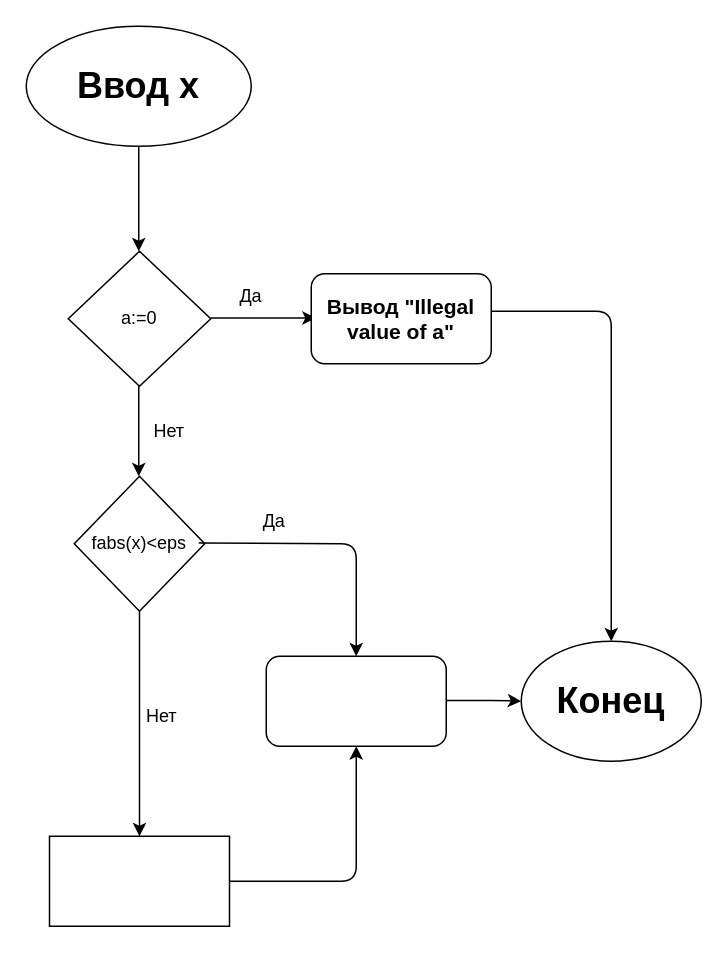
The diagram is 728 pixels wide and 954 high, and some of its shapes have lost their labels. Each missing label, with the centre of its shape:
xp = x x = (x+a/x)/2: [139,880]
Вывод sqrt(a): [355,700]
